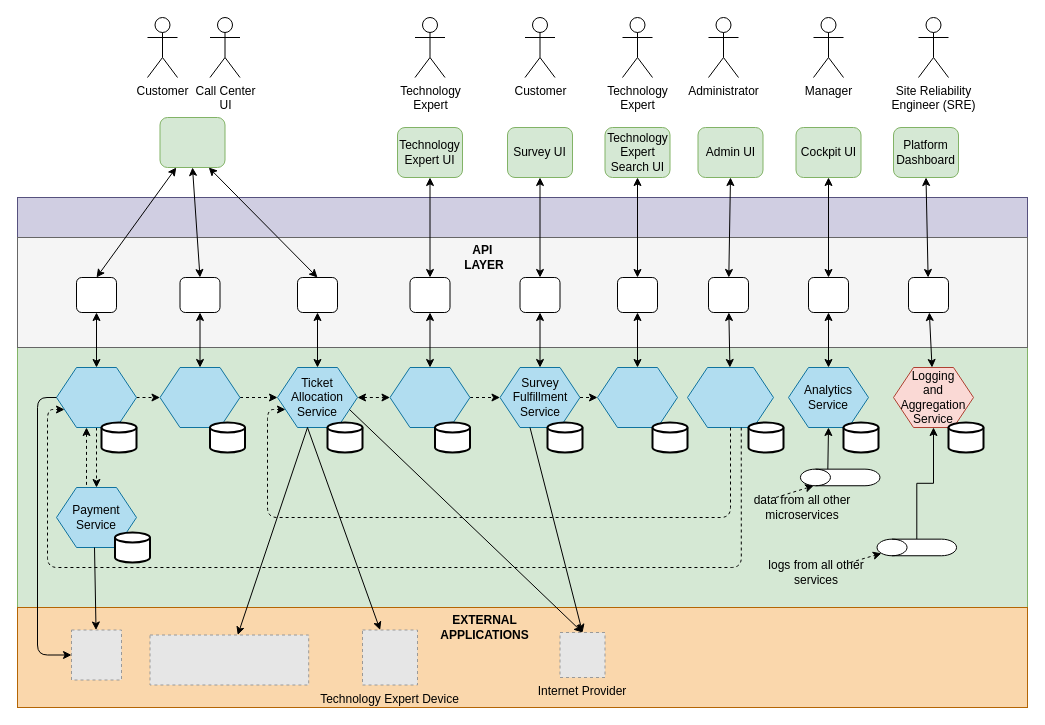
This 1045x725 diagram has some shape labels left out. Grey dashed boxes stand in for pictures. Each missing label, with the centre of its shape:
Administrator Service: (x=730, y=397)
API GATEWAY: (x=522, y=217)
Contract Capture Service: (x=96, y=397)
Customer and Call Center UI: (x=192, y=142)
Device Repair Service: (x=429, y=397)
Knowledge Base Service: (x=637, y=397)
Ticket Capture Service: (x=199, y=397)
